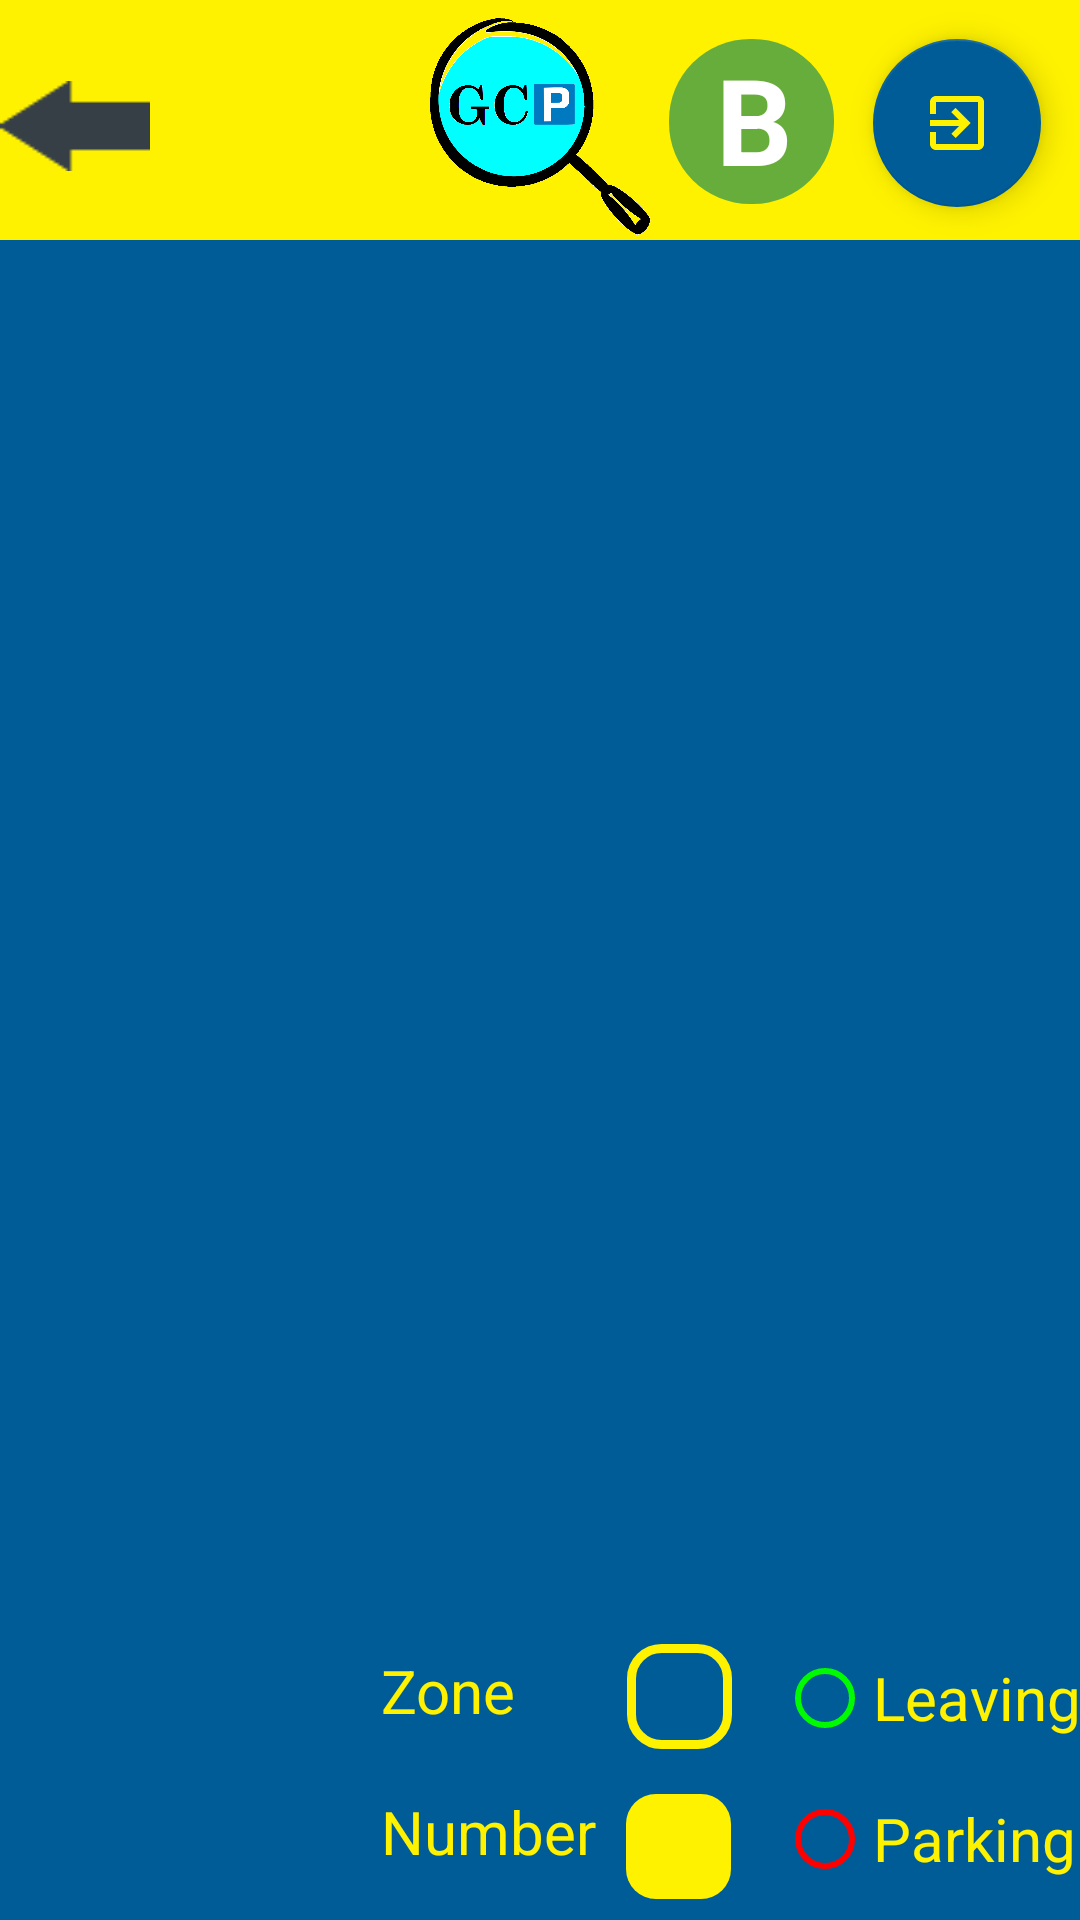

Screen size 1080*1920. Icon name, then its center in pixels as (x=x, y=y):
back: (x=75, y=126)
exit: (x=957, y=123)
